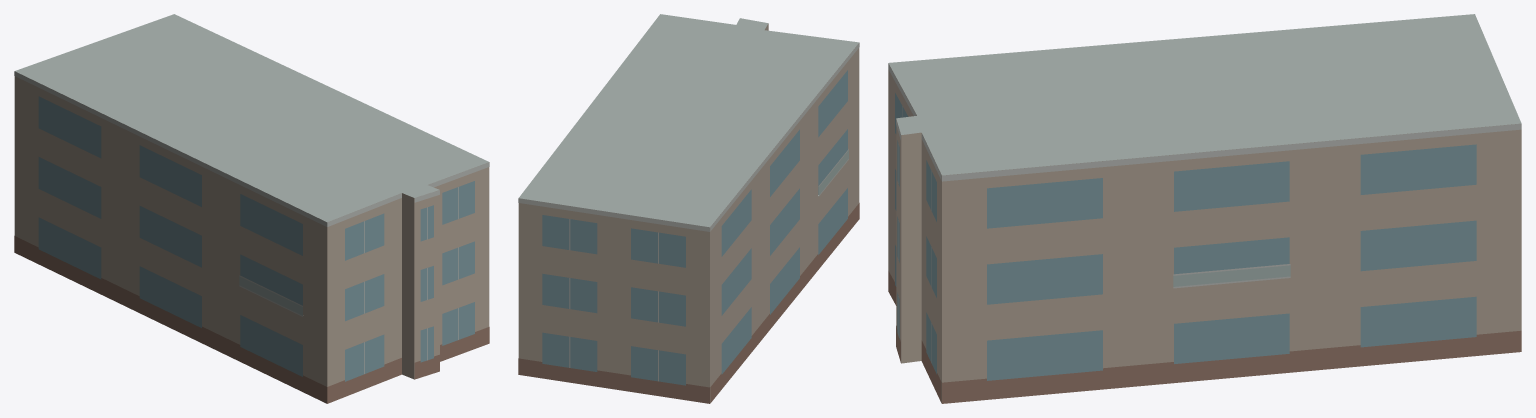
File: survey-upis-32914465.glb
The picture shows the model from 3 angles, left to right: view 1: azimuth 30°, elevation 25°; view 2: azimuth 150°, elevation 25°; view 3: azimuth 270°, elevation 25°; orthographic projection. The views are drawn at different scales.
Parts seen in each view (by area): view 1: survey-upis-32914465.tmp; view 2: survey-upis-32914465.tmp; view 3: survey-upis-32914465.tmp.
Part boxes in pixels (x1,y1,x2,y2): survey-upis-32914465.tmp: (14,14,489,403); survey-upis-32914465.tmp: (518,14,859,403); survey-upis-32914465.tmp: (888,14,1521,403).
Size of the model in its own units: 13.88 by 9.15 by 23.01.
